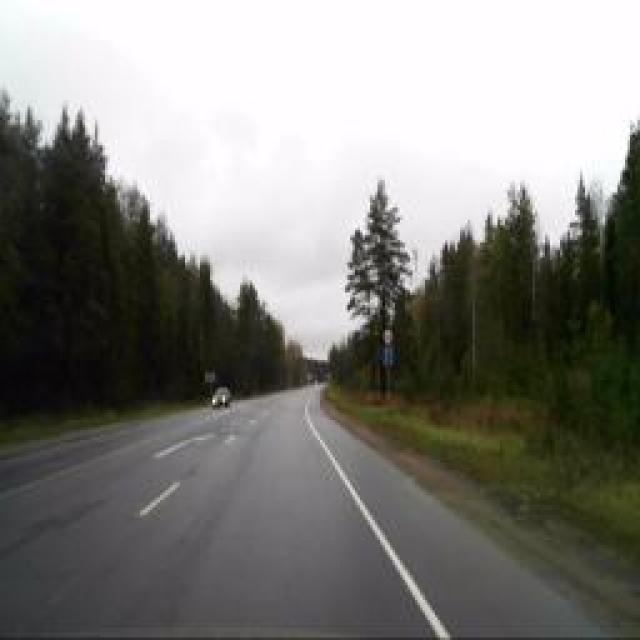sign: (382, 326, 392, 344)
